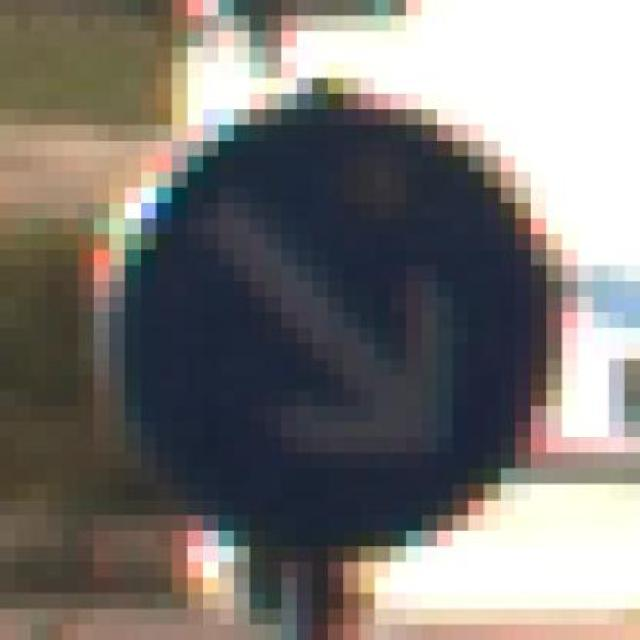Keep-Right: (94, 93, 609, 593)
